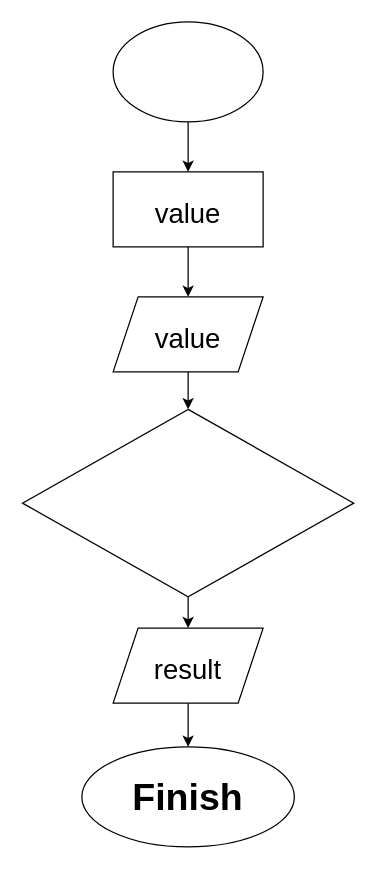
The diagram is 375 pixels wide and 869 high, and some of its shapes have lost their labels. The shapes that lost their labels are listed below. From the top down, each one's centre as x and y in pixels, then its label:
At [187,71]: "Start".
At [187,502]: "b = value / 10 result = b % 10".
